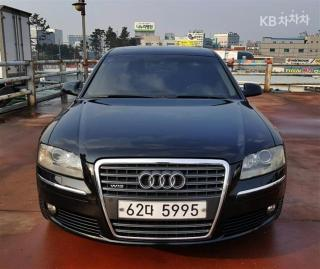2: (135, 203, 144, 217)
5: (190, 203, 200, 217), (162, 203, 171, 217)
6: (126, 203, 135, 217)
9: (180, 204, 190, 217), (171, 203, 180, 217)
다: (144, 203, 155, 217)
